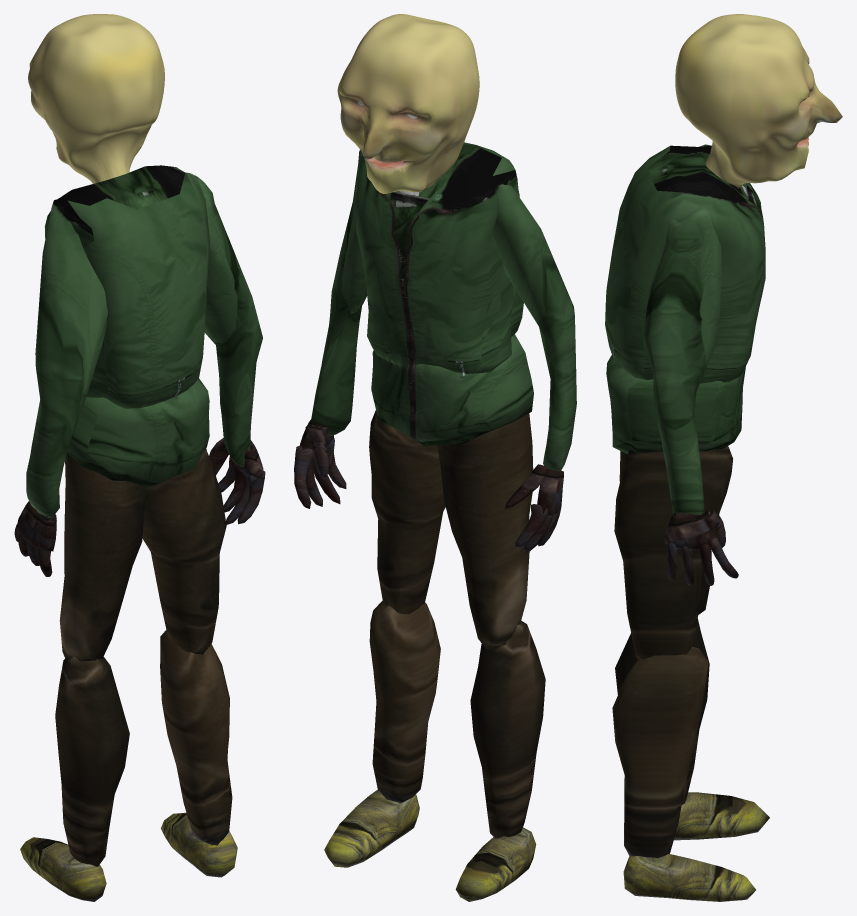
Rendered from hector.fbx.
3 renders of one model, left to right at view 1: azimuth 30°, elevation 25°; view 2: azimuth 150°, elevation 25°; view 3: azimuth 270°, elevation 25°, orthographic. The views are drawn at different scales.
Visible parts, largest first — view 1: Body.001, Head.001; view 2: Body.001, Head.001; view 3: Body.001, Head.001.
Boxes of the visible parts, x1,y1,x2,y2 form: Body.001: (14, 165, 265, 901); Head.001: (28, 14, 164, 183); Body.001: (294, 142, 576, 901); Head.001: (337, 14, 479, 193); Body.001: (605, 144, 769, 901); Head.001: (675, 14, 842, 187).
Bounding box in the file's own units: 70.04 × 232 × 59.36.
2 materials, 2 textured.
